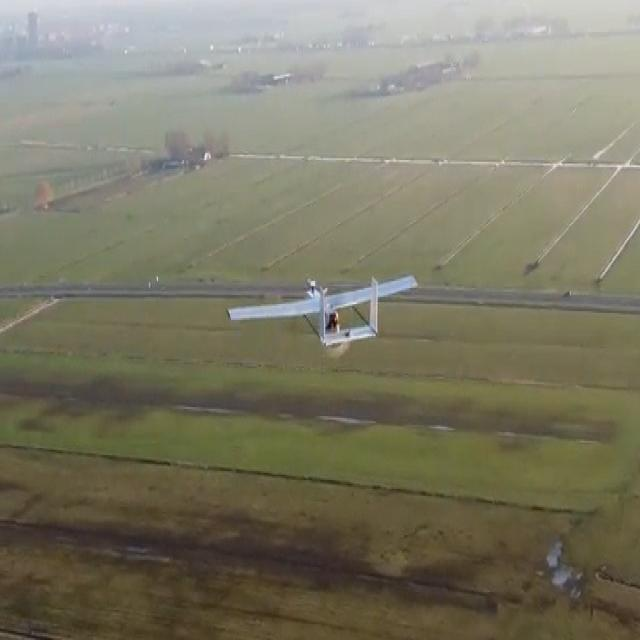iha: (227, 294, 417, 329)
